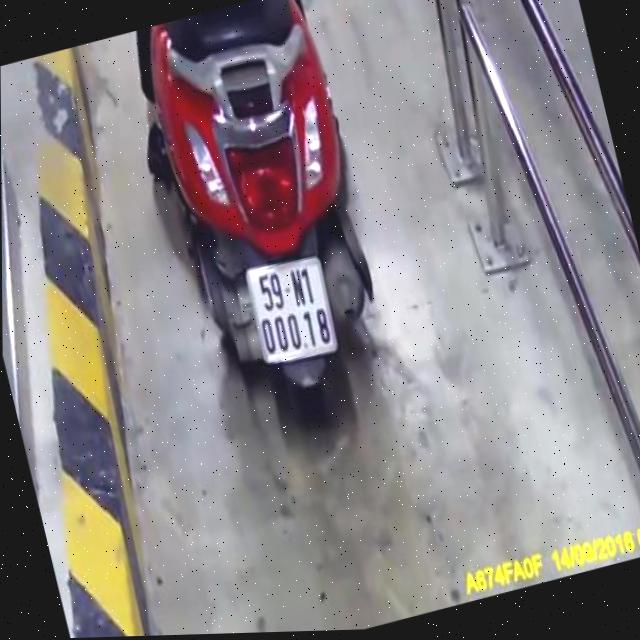motorcycle: (127, 0, 414, 453)
plate: (234, 244, 348, 378)
